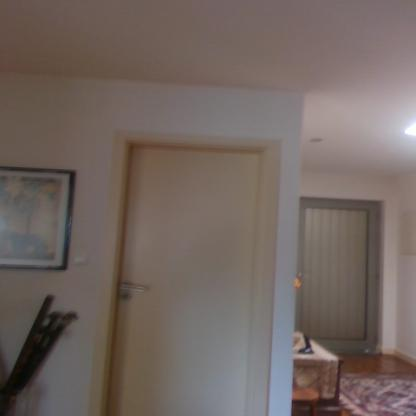door: (116, 141, 255, 415)
lever: (114, 282, 150, 296)
